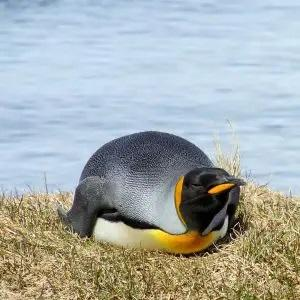king: (48, 112, 253, 270)
